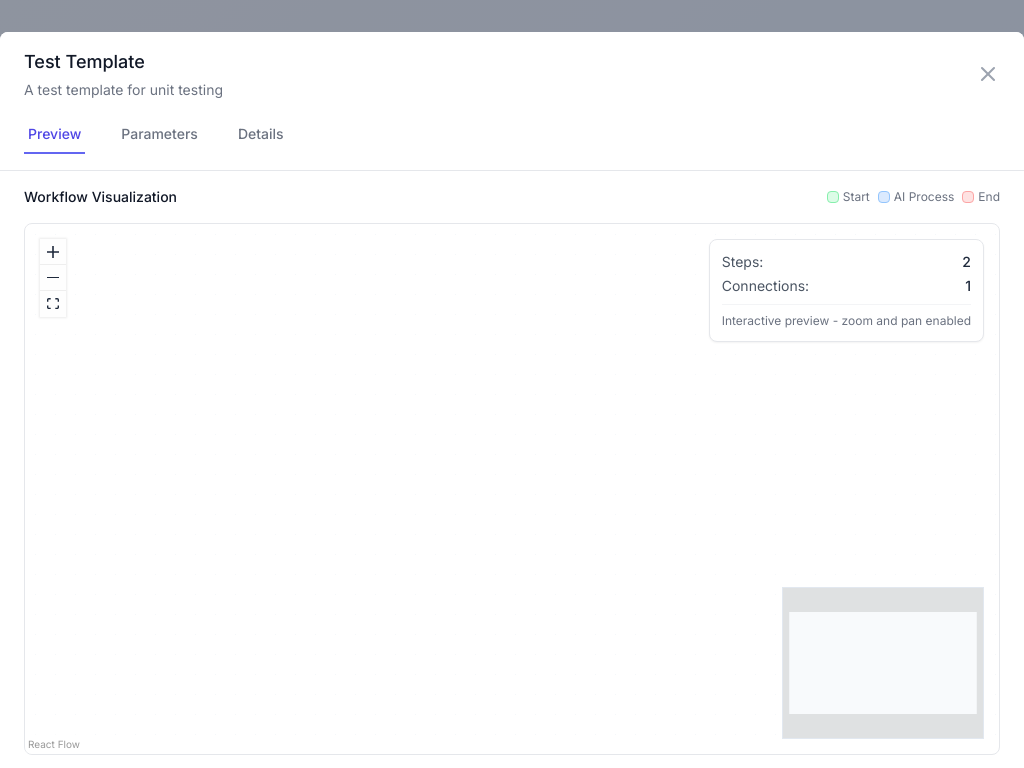
Test: TemplatePreviewModal › shows empty state when template has no parameters
This screenshot has width=1024, height=768.
Switch to parameters tab
Click the button "Parameters".
click(160, 135)  # box [117,116,202,154]
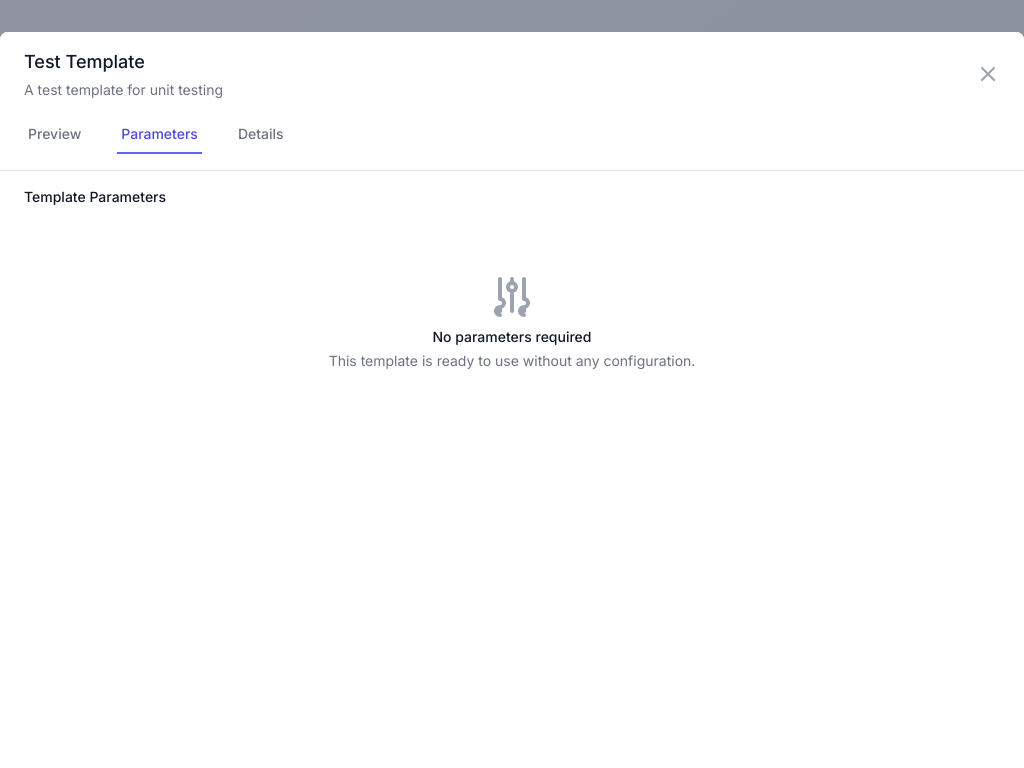
Expected: the heading "No parameters required" is shown, [432,328,592,345]
